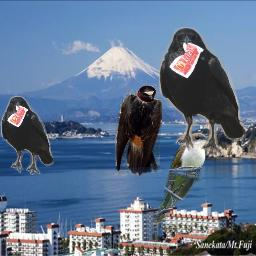Crow: (159, 27, 246, 156), (1, 96, 54, 175)
Cuckoo: (152, 131, 210, 225)
Swallow: (115, 85, 162, 176)
